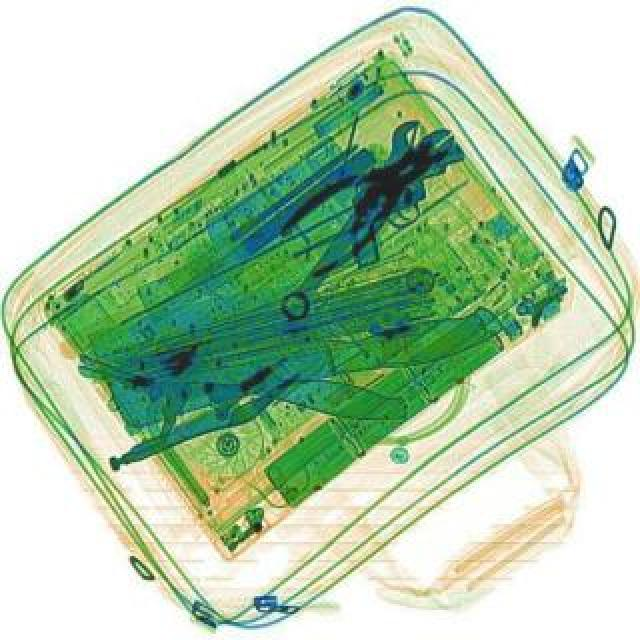gun: (324, 134, 492, 266)
knife: (84, 234, 504, 434), (142, 340, 410, 430)
scissors: (266, 112, 444, 328)
wrench: (272, 112, 480, 274)
